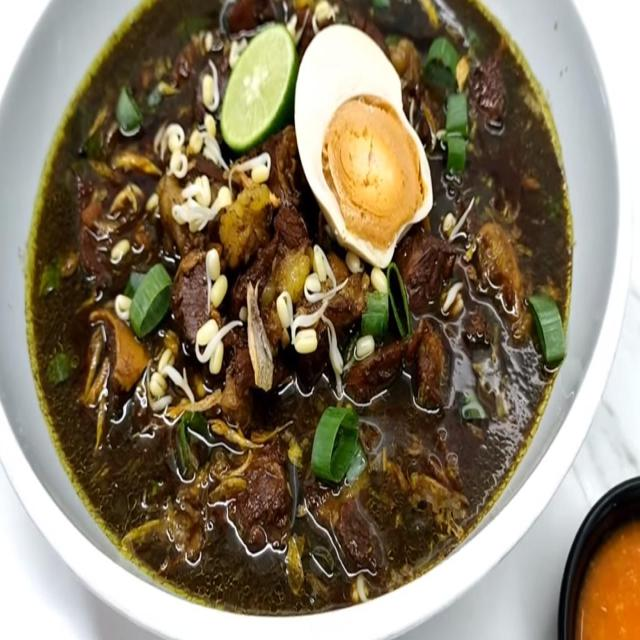Rawon: (27, 8, 561, 531)
